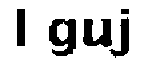g: (44, 15, 78, 59)
j: (111, 6, 136, 60)
l: (9, 7, 32, 49)
u: (82, 17, 114, 50)
